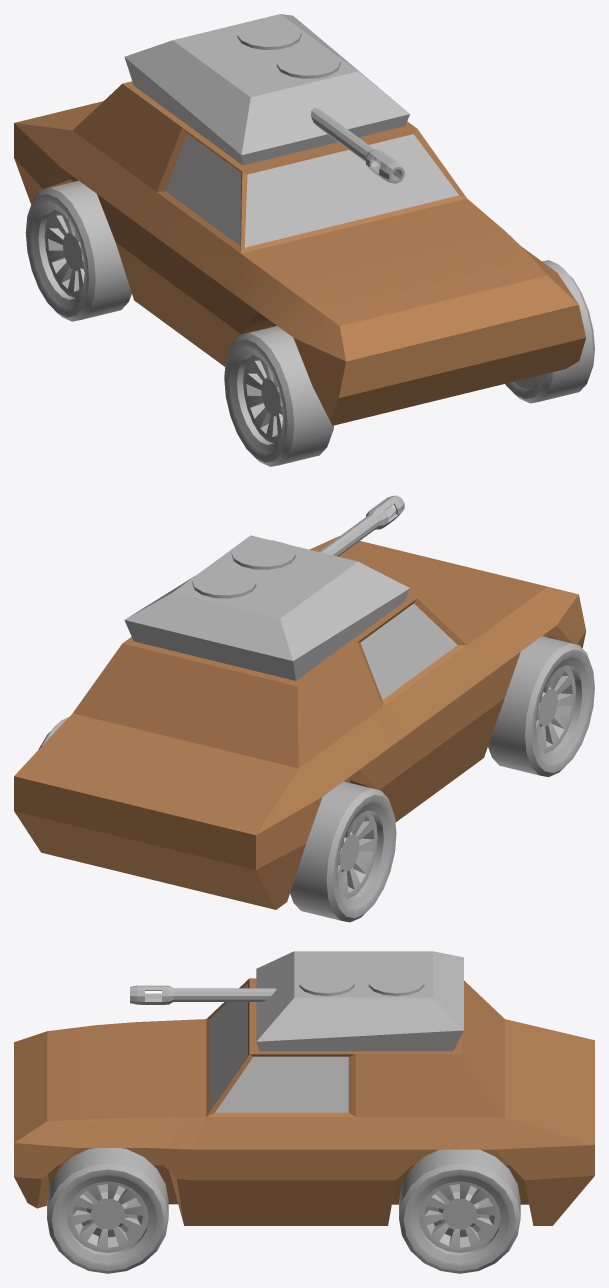
File: light_tank.glb
3 views of the same model, one above another, from view 1: azimuth 30°, elevation 25°; view 2: azimuth 150°, elevation 25°; view 3: azimuth 270°, elevation 25° (orthographic). The views are drawn at different scales.
Parts seen in each view (by area): view 1: Hull.001, Cannon, WheelFrontRight, WheelBackRight, WheelFrontLeft, Barrel, Hatch2, Hatch1; view 2: Hull.001, Cannon, WheelFrontRight, WheelBackRight, Barrel, Hatch2, Hatch1; view 3: Hull.001, Cannon, WheelFrontLeft, WheelBackLeft, Barrel, Hatch2, Hatch1.
Part boxes in pixels (x1,y1,x2,y2): Hull.001: (14, 81, 586, 425); Cannon: (124, 14, 409, 165); WheelFrontRight: (224, 326, 333, 466); WheelBackRight: (25, 180, 131, 321); WheelFrontLeft: (505, 260, 594, 403); Barrel: (311, 107, 404, 183); Hatch2: (237, 20, 301, 49); Hatch1: (276, 49, 340, 78); Hull.001: (14, 536, 585, 909); Cannon: (124, 535, 409, 680); WheelFrontRight: (488, 636, 594, 777); WheelBackRight: (290, 781, 396, 922); Barrel: (319, 495, 404, 556); Hatch2: (192, 568, 256, 598); Hatch1: (231, 540, 295, 569); Hull.001: (14, 978, 594, 1225); Cannon: (256, 951, 463, 1051); WheelFrontLeft: (47, 1148, 168, 1273); WheelBackLeft: (399, 1149, 520, 1273); Barrel: (130, 985, 276, 1004); Hatch2: (368, 969, 424, 996); Hatch1: (299, 969, 354, 996).
Size of the model in its own units: 0.3269 by 0.2719 by 0.6033.
